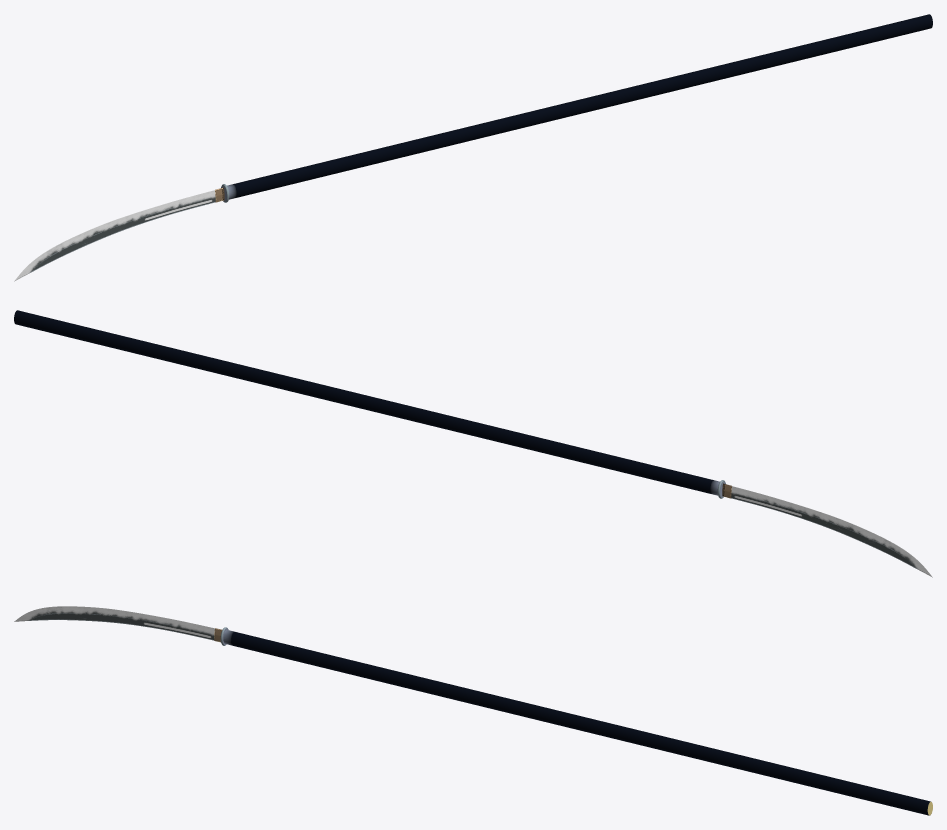
File: Naginata.fbx
3 views of the same model, one above another, from view 1: azimuth 30°, elevation 25°; view 2: azimuth 150°, elevation 25°; view 3: azimuth 330°, elevation 25° (orthographic).
Visible parts, largest first — view 1: Naginata; view 2: Naginata; view 3: Naginata.
Boxes of the visible parts, bbox=[...] form: Naginata: bbox=[14, 14, 932, 281]; Naginata: bbox=[14, 310, 932, 577]; Naginata: bbox=[14, 606, 932, 815].
Size of the model in its own units: 255 by 12.18 by 3.5.
Materials: 1 (1 with a texture image).
